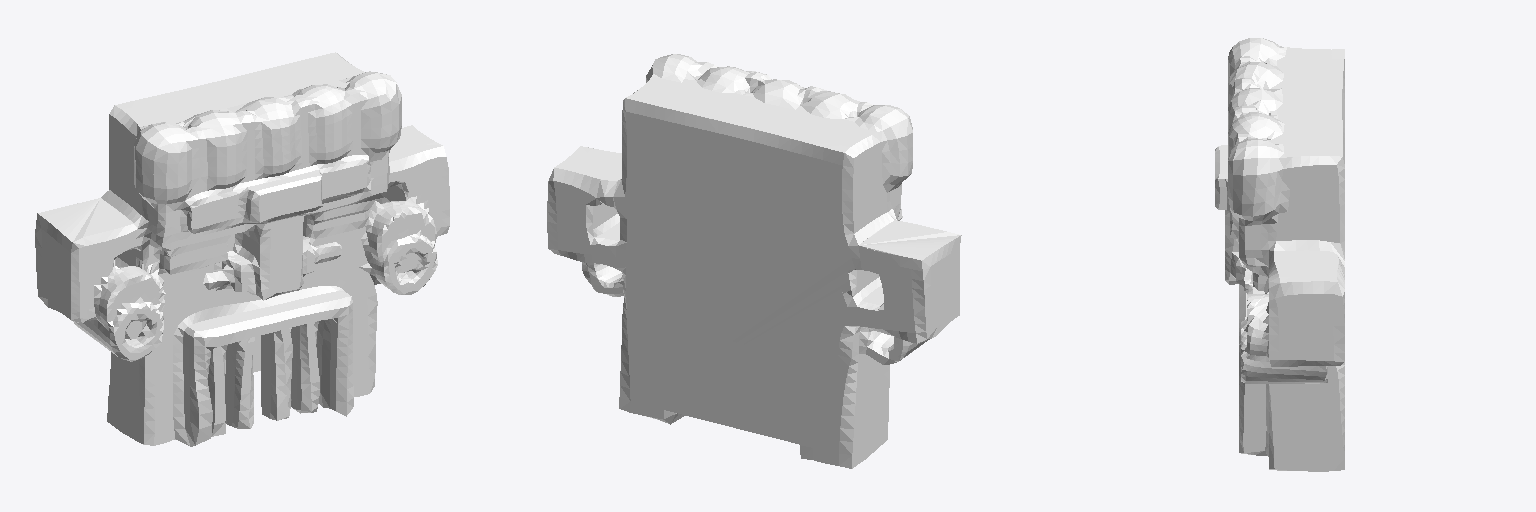
The model's file is StoneFace03.Obj.
3 renders of one model, left to right at view 1: azimuth 30°, elevation 25°; view 2: azimuth 150°, elevation 25°; view 3: azimuth 270°, elevation 25°, orthographic.
Visible parts, largest first — view 1: Volume17; view 2: Volume17; view 3: Volume17.
Part boxes in pixels (x1,y1,x2,y2): Volume17: (35,52,449,446); Volume17: (547,54,961,468); Volume17: (1215,38,1344,471).
Size of the model in its own units: 402 by 336 by 121.